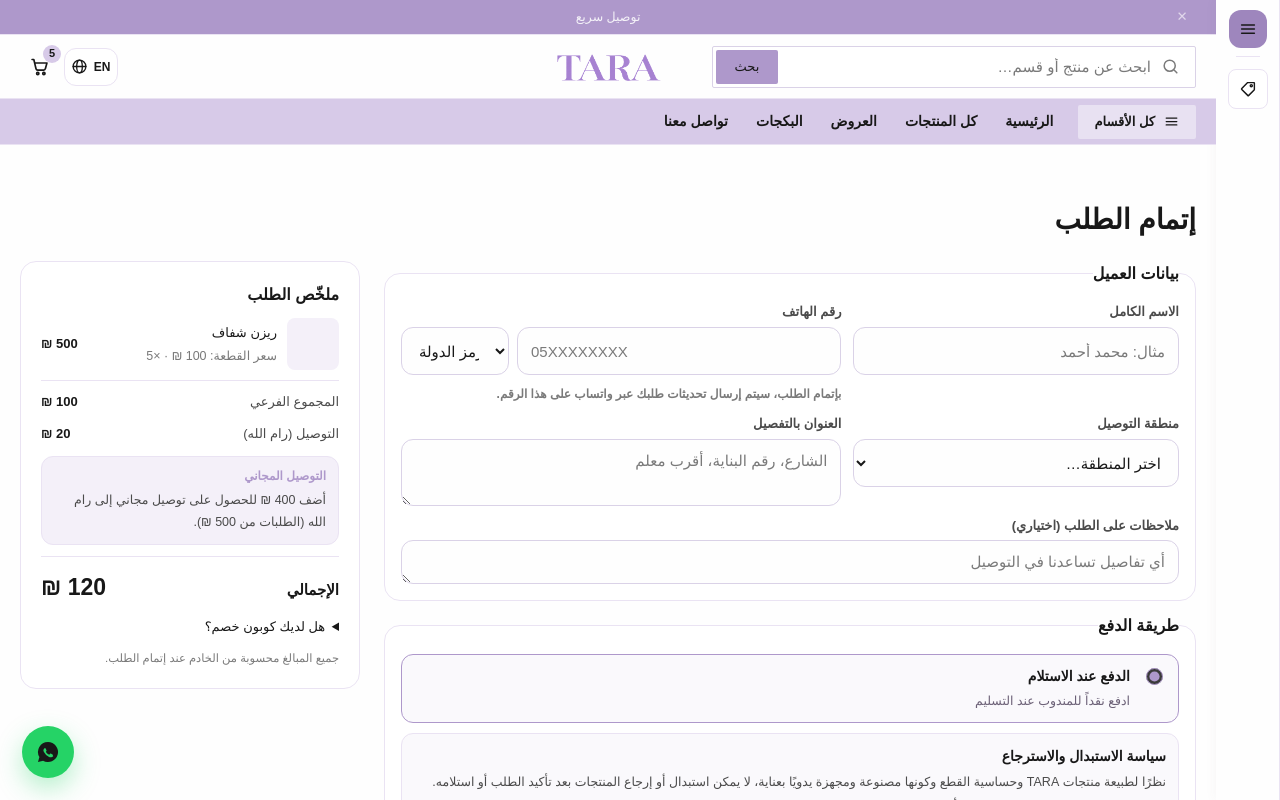
Test: public storefront › keeps the cart and does not open WhatsApp when order creation fails
In the field with placeholder "مثال: محمد أحمد": {"x": 1016, "y": 351} [854,327,1179,375], type "سارة أحمد"
Select "+970" in the dropdown named "رمز الدولة": {"x": 455, "y": 351} [401,327,509,375]
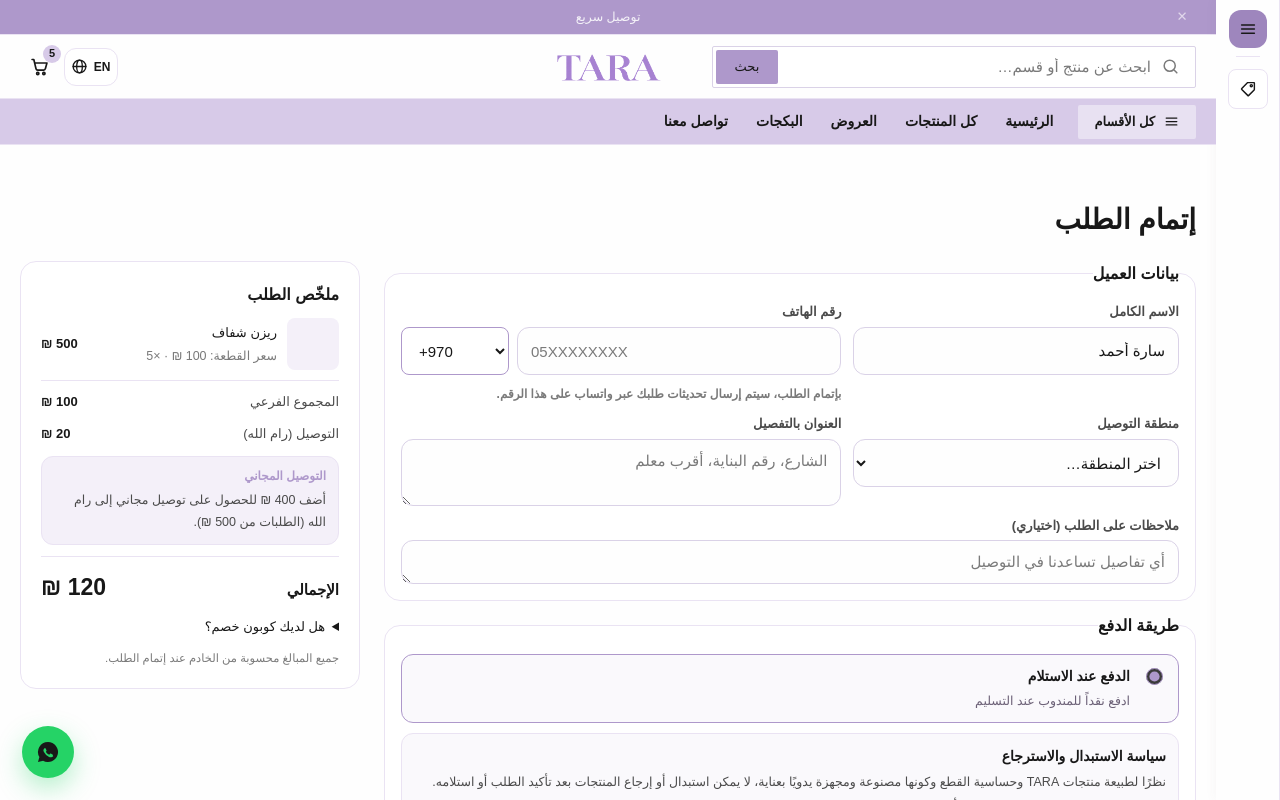
In the field with placeholder "05XXXXXXXX": {"x": 679, "y": 351} [517,327,842,375], type "0591234567"
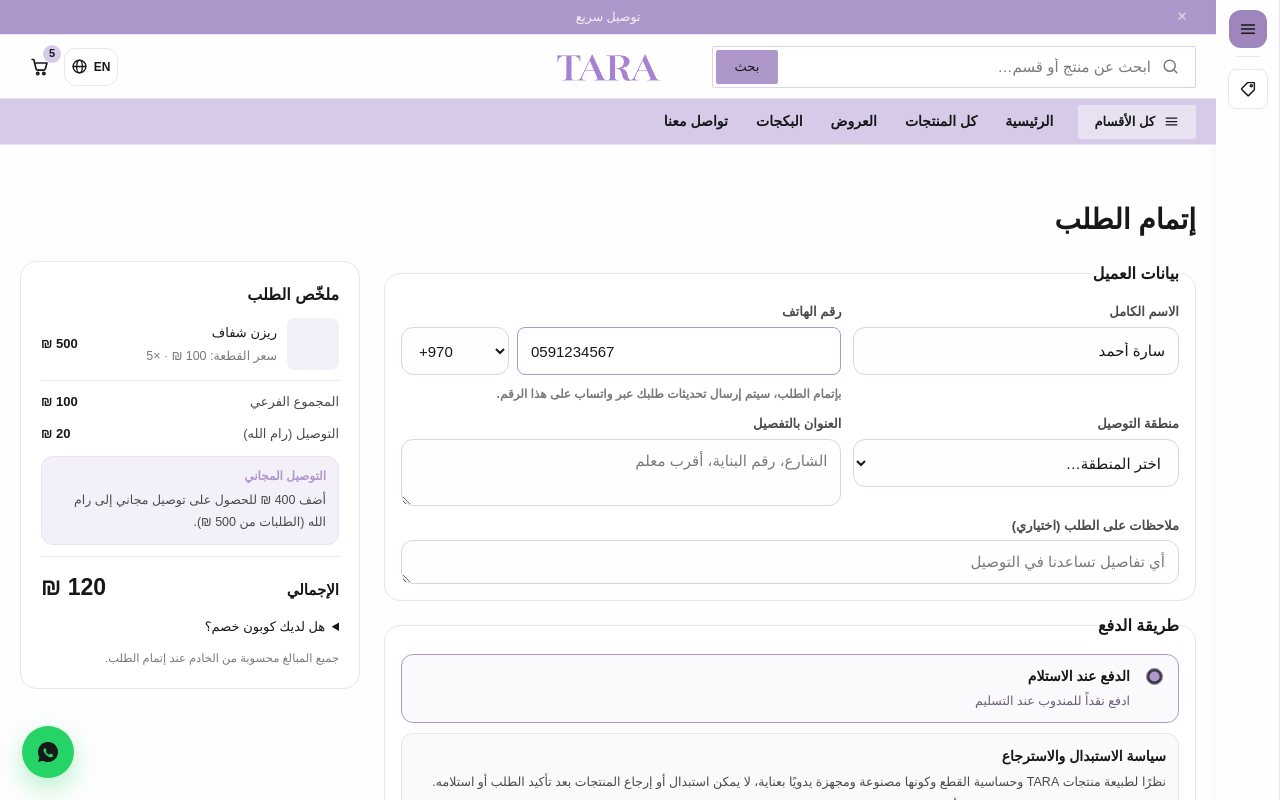
In the text box with placeholder "الشارع، رقم البناية، أقرب معلم": {"x": 621, "y": 472} [401,439,842,506], type "رام الله، شارع الإرسال"
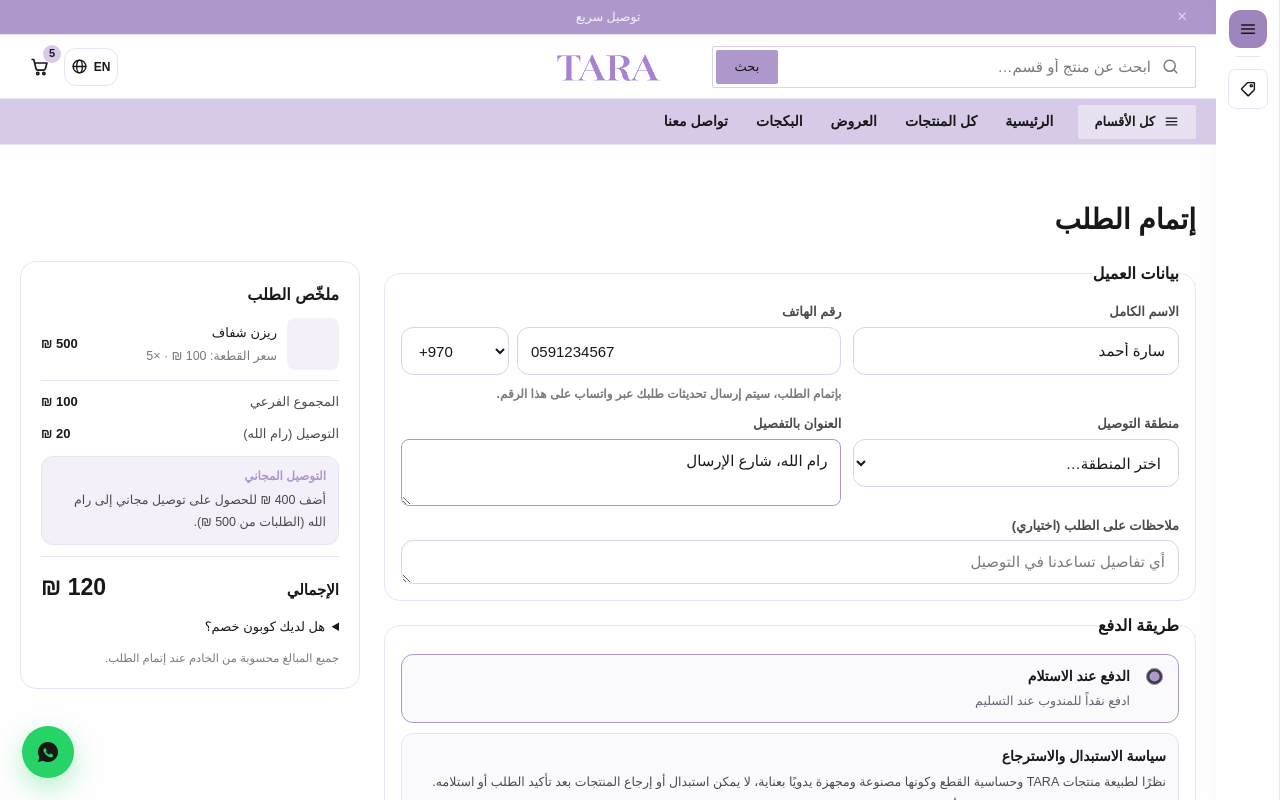
Select "رام الله — 20 ₪ · يومان" in the dropdown labelled "منطقة التوصيل": {"x": 1016, "y": 463} [854,439,1179,487]
(page scrolled)
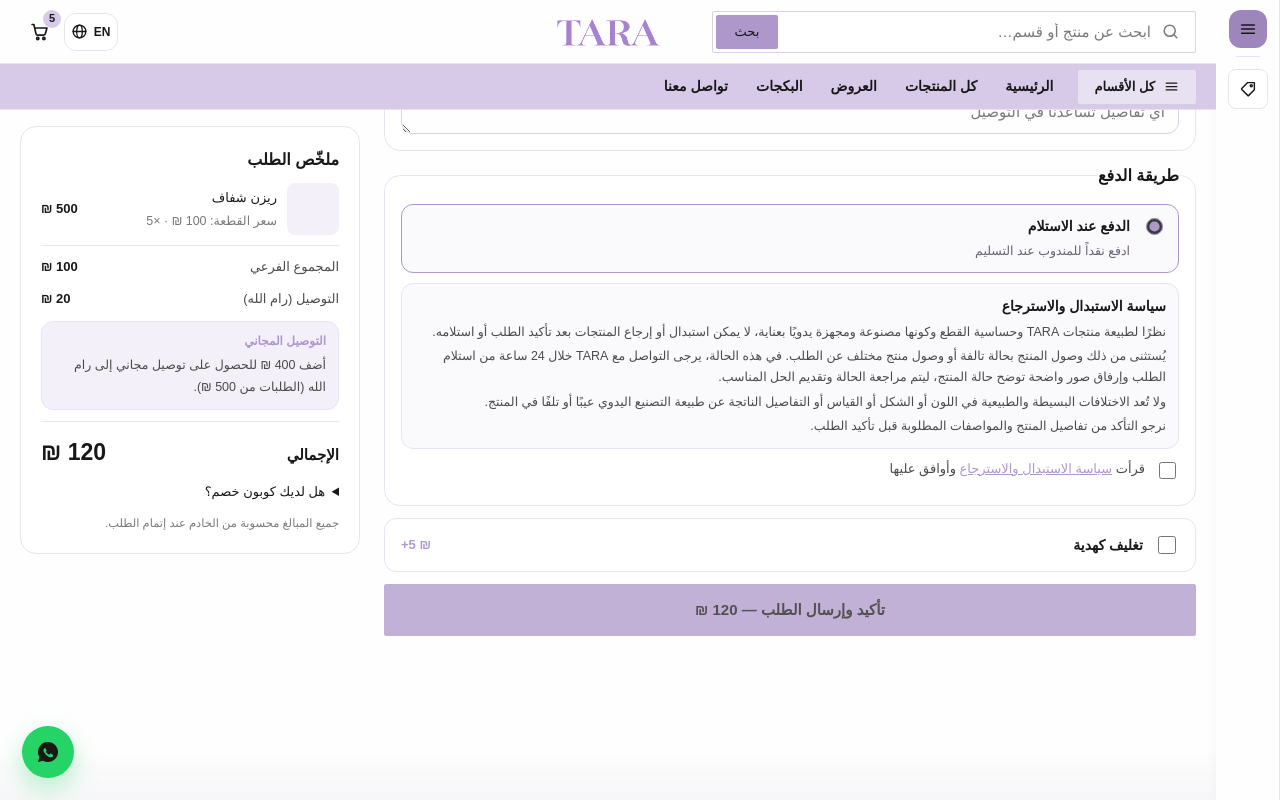
Click the checkbox labelled "قرأت سياسة الاستبدال والاسترجاع وأوافق عليها": {"x": 1168, "y": 470} [1159,462,1176,479]
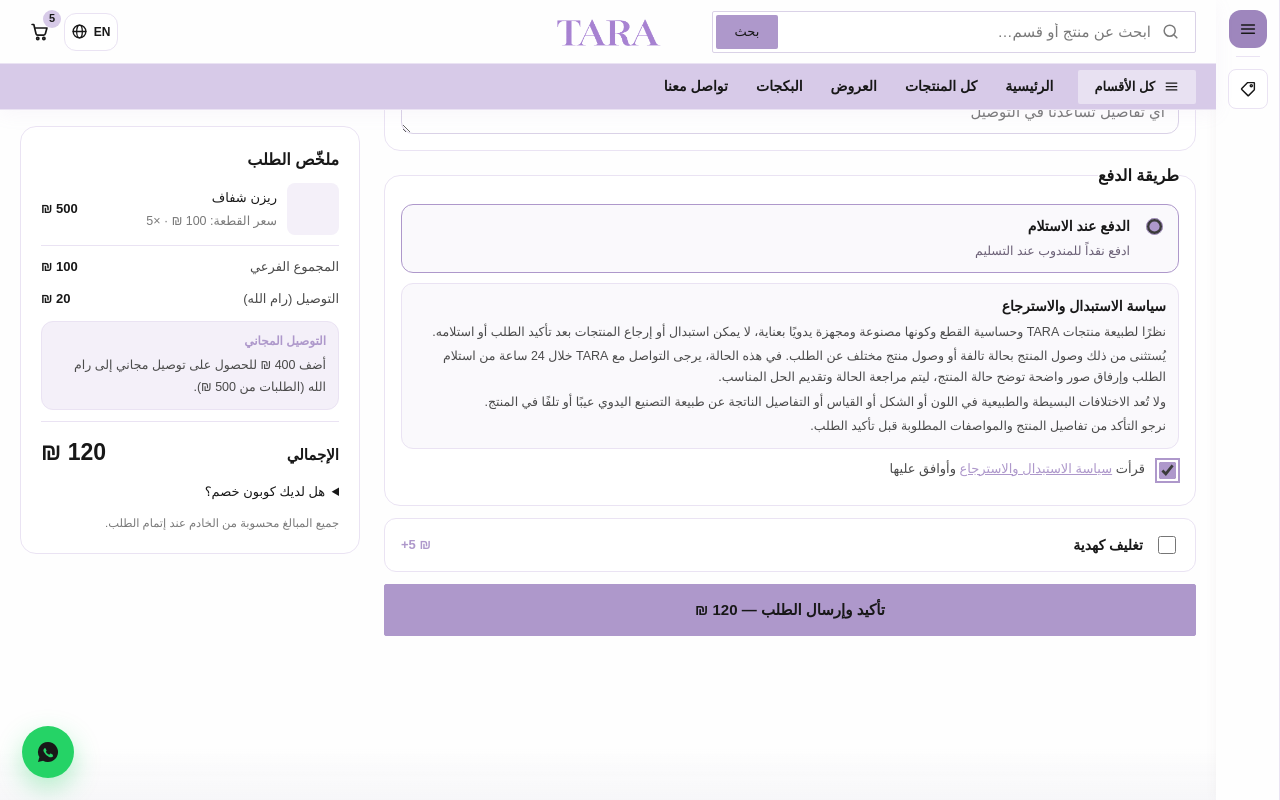
Click the button "تأكيد وإرسال الطلب — 120 ₪": {"x": 790, "y": 610} [384,584,1196,636]
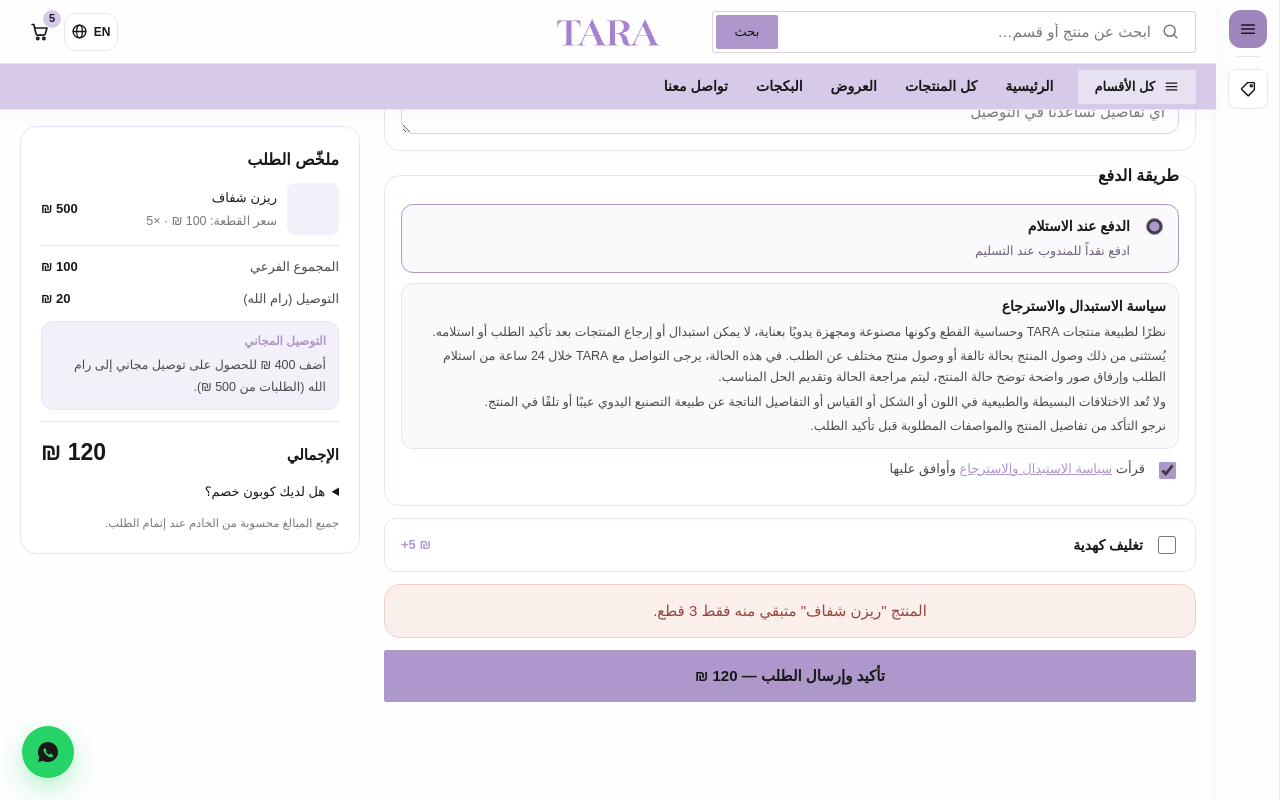
Check: the message "المنتج \"ريزن شفاف\" متبقي منه فقط 3 قطع." reads "المنتج \"ريزن شفاف\" متبقي منه فقط 3 قطع.", box [653,602,927,619]
